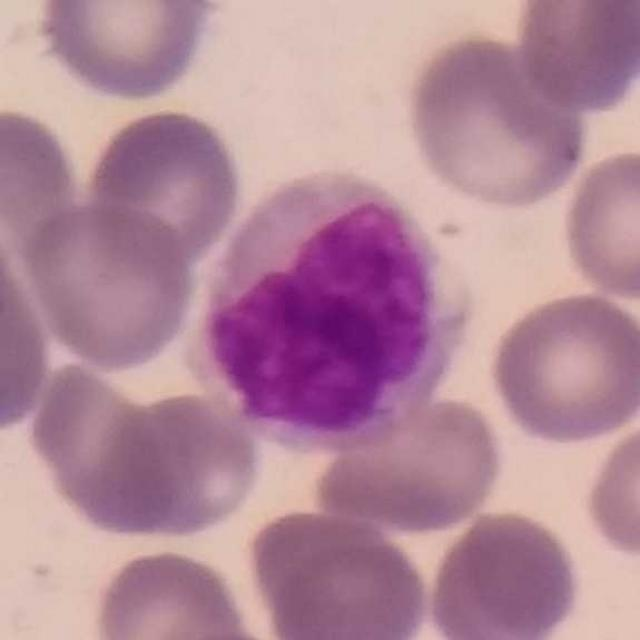Monocyte: (193, 163, 475, 453)
RBC: (399, 28, 592, 214), (16, 196, 200, 374), (307, 390, 510, 538), (22, 359, 183, 535), (89, 386, 266, 546), (79, 104, 247, 272), (245, 504, 434, 640), (483, 287, 639, 448), (422, 505, 586, 640), (29, 0, 224, 105), (93, 544, 260, 640), (510, 0, 640, 115), (555, 144, 640, 307), (0, 101, 85, 256), (0, 216, 57, 442), (580, 412, 640, 563)
